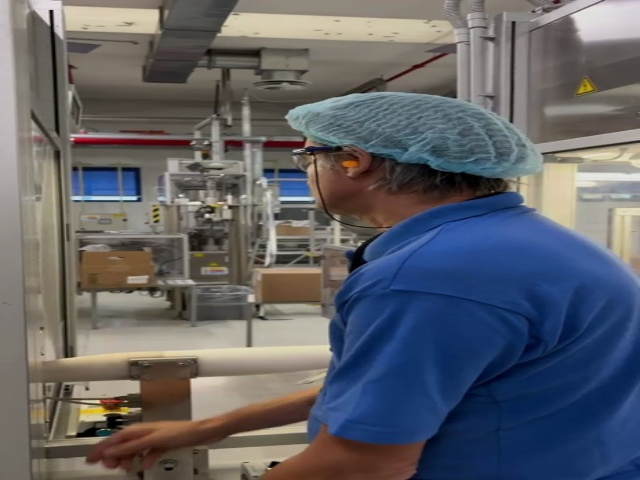Earplug: (337, 147, 374, 179)
Hairnet: (286, 91, 547, 177)
No_Helmet: (286, 93, 542, 173)
No_Vest: (321, 228, 640, 480)
Person: (284, 92, 640, 480)
Safety_Goggles: (291, 145, 342, 174)
